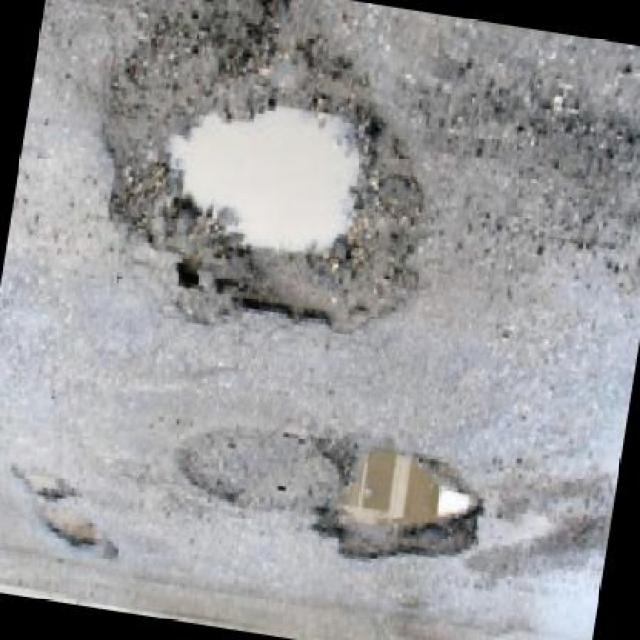pothole: (71, 1, 463, 357), (294, 431, 497, 586), (39, 504, 127, 568), (8, 462, 82, 508)
